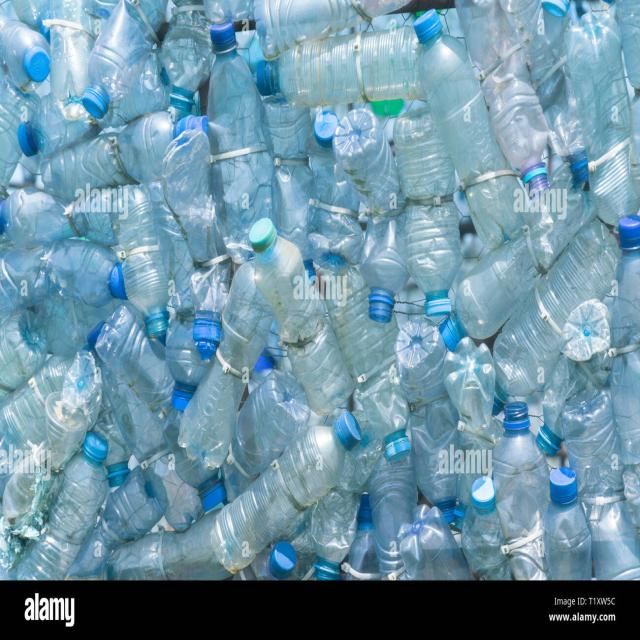plastic_bottle: (200, 395, 378, 593), (412, 0, 538, 278), (235, 210, 361, 434), (5, 400, 131, 579), (324, 102, 404, 362), (185, 47, 280, 225), (496, 392, 546, 588)
